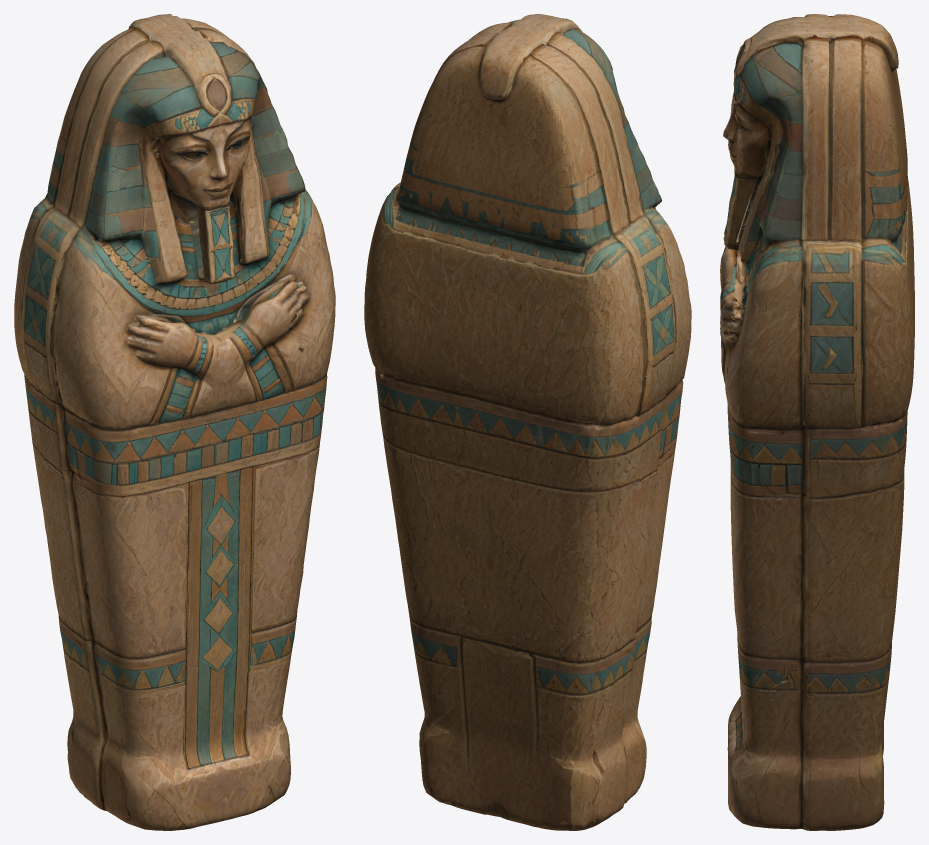
Rendered from DESERT_P06_SARCOPHAGUS.glb.
The picture shows the model from 3 angles, left to right: view 1: azimuth 30°, elevation 25°; view 2: azimuth 150°, elevation 25°; view 3: azimuth 270°, elevation 25°; orthographic projection.
Visible parts, largest first — view 1: texture_mapping; view 2: texture_mapping; view 3: texture_mapping.
Boxes of the visible parts, box(x1,y1,x2,y2) form: texture_mapping: box(14, 14, 335, 830); texture_mapping: box(364, 14, 691, 830); texture_mapping: box(720, 14, 914, 830).
Bounding box in the file's own units: 0.3765 × 0.9995 × 0.2278.
1 material, 1 textured.
